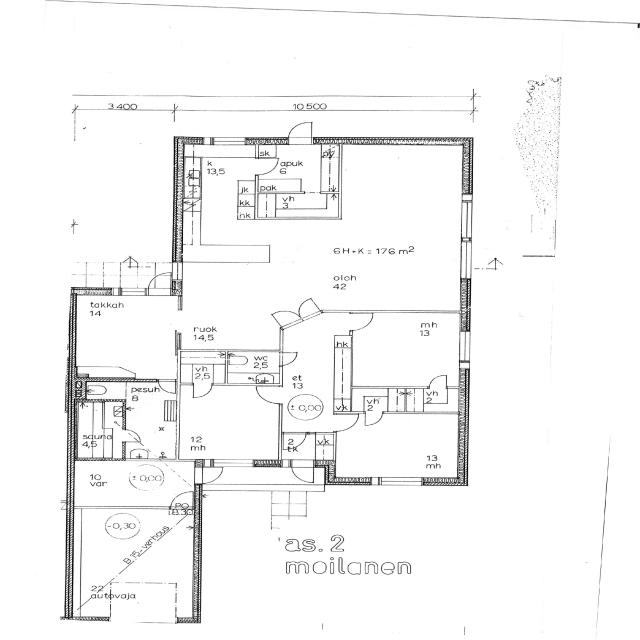door: (280, 301, 321, 326), (284, 120, 316, 144), (345, 310, 377, 332), (145, 271, 174, 294), (252, 383, 282, 405), (269, 310, 302, 330), (331, 411, 361, 432), (294, 297, 322, 319), (280, 431, 308, 452), (288, 464, 315, 484), (197, 466, 225, 484), (253, 157, 279, 175), (276, 350, 301, 368), (425, 372, 449, 389), (190, 382, 213, 399), (362, 410, 383, 428), (156, 379, 178, 394), (121, 429, 140, 445)
window: (455, 195, 476, 242), (456, 238, 475, 282), (455, 329, 474, 368), (376, 476, 426, 488), (213, 459, 256, 469), (169, 308, 185, 334), (127, 618, 178, 626), (104, 288, 146, 297), (210, 136, 247, 146), (170, 352, 182, 379)
zone: (278, 138, 468, 312), (68, 5, 180, 94), (331, 410, 464, 483), (176, 259, 281, 351), (70, 293, 178, 381), (346, 312, 464, 388), (178, 382, 280, 462), (182, 147, 257, 247), (256, 143, 340, 219), (68, 460, 197, 506), (124, 380, 178, 449), (73, 400, 124, 460), (227, 350, 280, 384), (398, 387, 462, 414), (177, 352, 229, 383), (346, 387, 389, 412), (83, 380, 126, 400), (280, 431, 308, 452)
